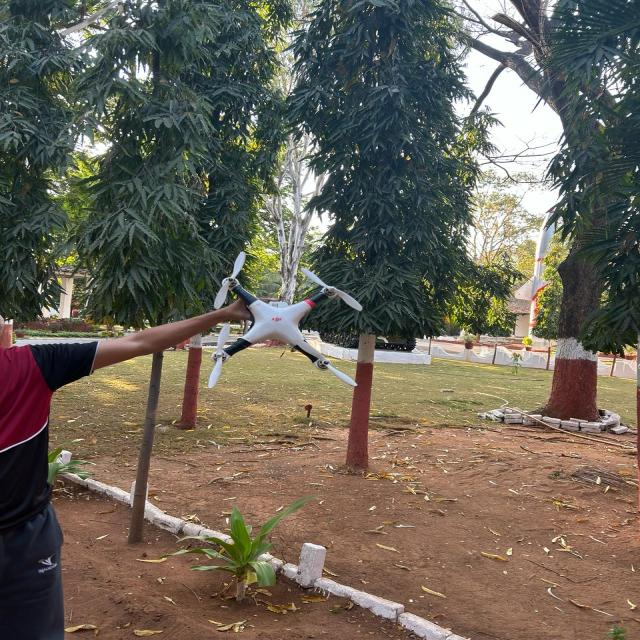drone: (172, 234, 400, 397)
